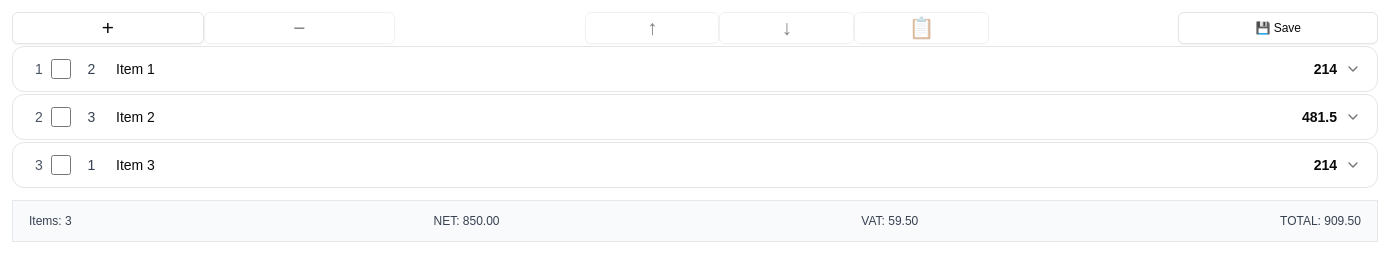
Test: SimpleEditableTable - Row Manipulation › Button States › should enable Up, Down, Copy, and Delete buttons when rows are selected
Select first row
Click the checkbox named "Select row 1" at (61, 69), box x1=51 y1=59 x2=71 y2=79
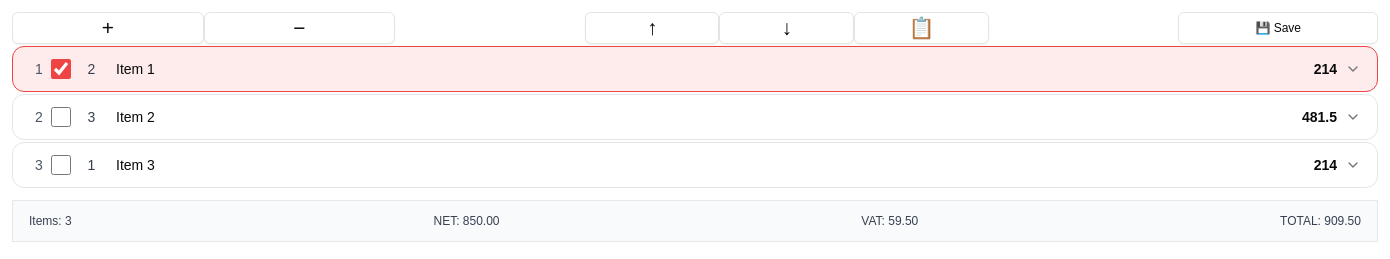
Expected: the button named "Move selected rows up" is enabled, x1=585 y1=12 x2=719 y2=44
Now the button named "Move selected rows down" is enabled, box x1=719 y1=12 x2=854 y2=44
Now the button named "Copy selected rows" is enabled, box x1=854 y1=12 x2=989 y2=44
